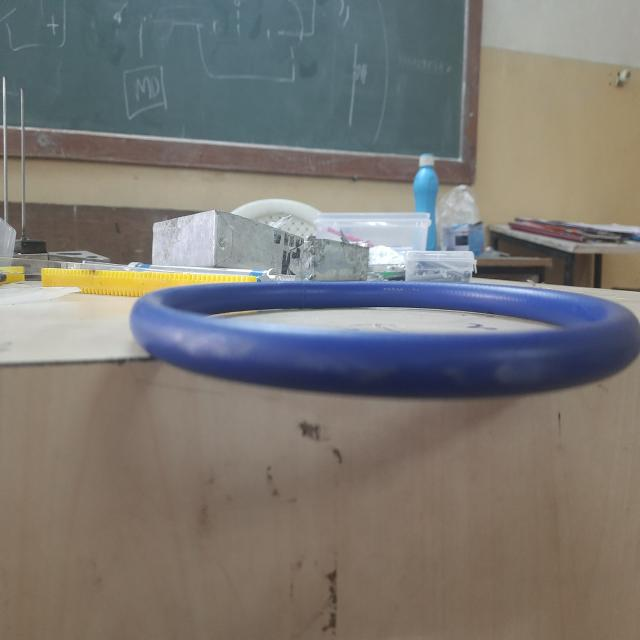daire: (141, 277, 634, 388)
